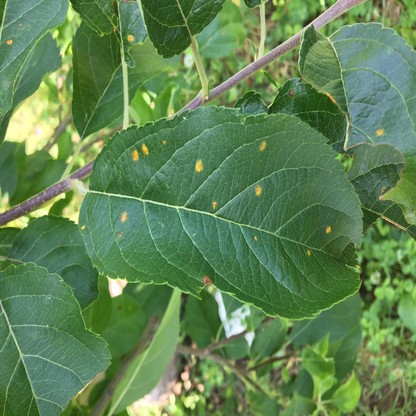rust: (326, 90, 335, 102), (195, 159, 203, 172), (203, 276, 212, 285), (141, 144, 149, 154), (121, 211, 127, 223), (133, 149, 139, 160), (260, 141, 266, 151), (255, 184, 261, 194), (376, 128, 384, 135), (6, 39, 12, 45), (306, 249, 312, 255), (126, 34, 133, 39), (253, 233, 258, 240), (325, 225, 330, 232), (212, 201, 216, 209), (80, 224, 86, 229), (18, 22, 22, 27), (117, 232, 122, 236), (162, 138, 166, 143)
